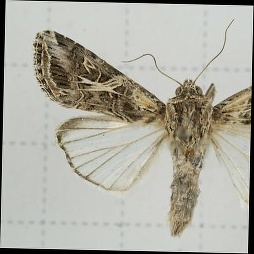Spodoptera litura: (30, 16, 251, 237)
